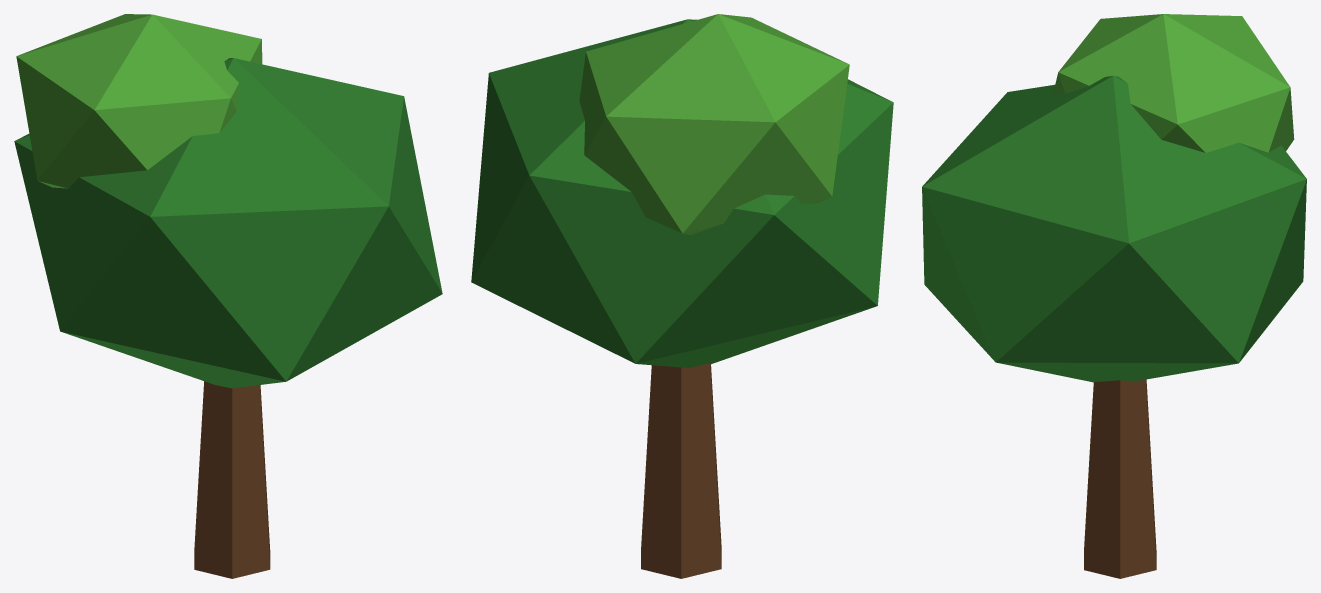
The model's file is tree_mahogany.glb.
The picture shows the model from 3 angles, left to right: view 1: azimuth 30°, elevation 25°; view 2: azimuth 150°, elevation 25°; view 3: azimuth 270°, elevation 25°; orthographic projection. The views are drawn at different scales.
Visible parts, largest first — view 1: tree_mahogany; view 2: tree_mahogany; view 3: tree_mahogany.
Boxes of the visible parts, box(x1,y1,x2,y2) form: tree_mahogany: box(14, 14, 442, 578); tree_mahogany: box(471, 14, 893, 578); tree_mahogany: box(922, 14, 1306, 578).
Bounding box in the file's own units: 3.64 × 5.33 × 3.57.
